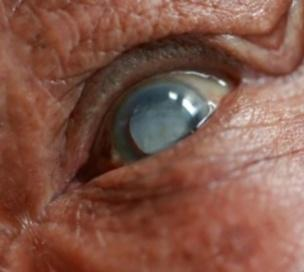eye: (109, 79, 206, 155)
